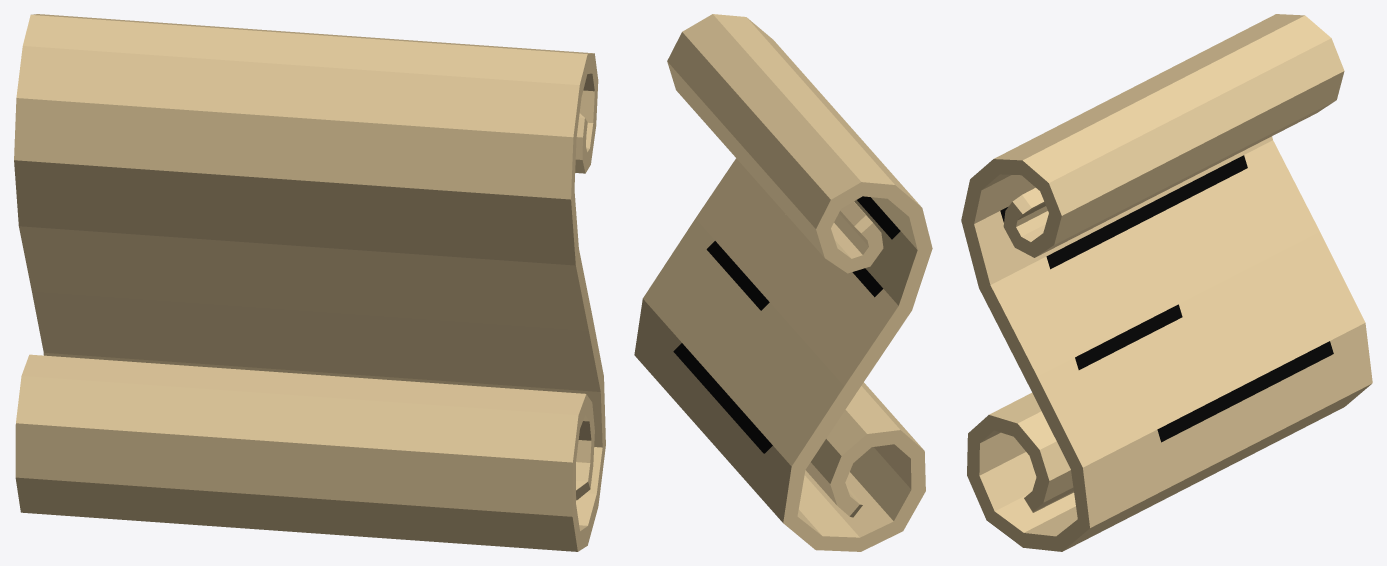
File: scroll.fbx
3 renders of one model, left to right at view 1: azimuth 30°, elevation 25°; view 2: azimuth 150°, elevation 25°; view 3: azimuth 270°, elevation 25°, orthographic. The views are drawn at different scales.
Parts seen in each view (by area): view 1: scroll; view 2: scroll; view 3: scroll.
Part boxes in pixels (x1,y1,x2,y2): scroll: [14, 14, 605, 551]; scroll: [634, 14, 932, 551]; scroll: [961, 14, 1372, 551].
Size of the model in its own units: 0.8042 by 0.7367 by 0.7646.
